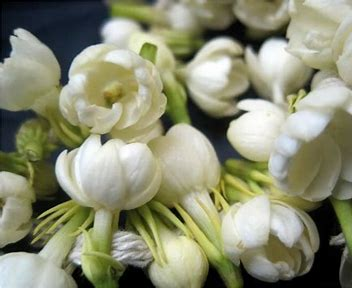inorganic: (6, 6, 346, 285)
